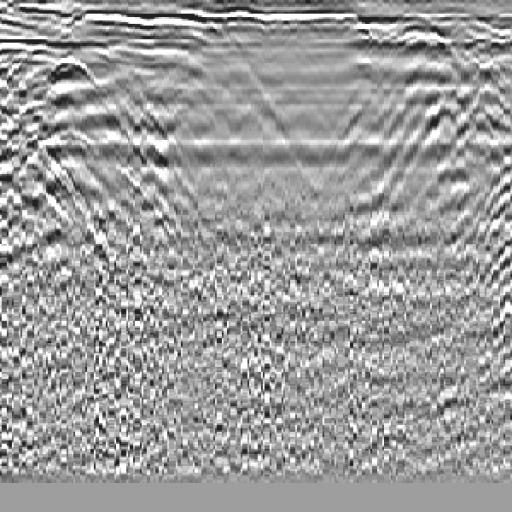non-metallic: (1, 38, 174, 265)
